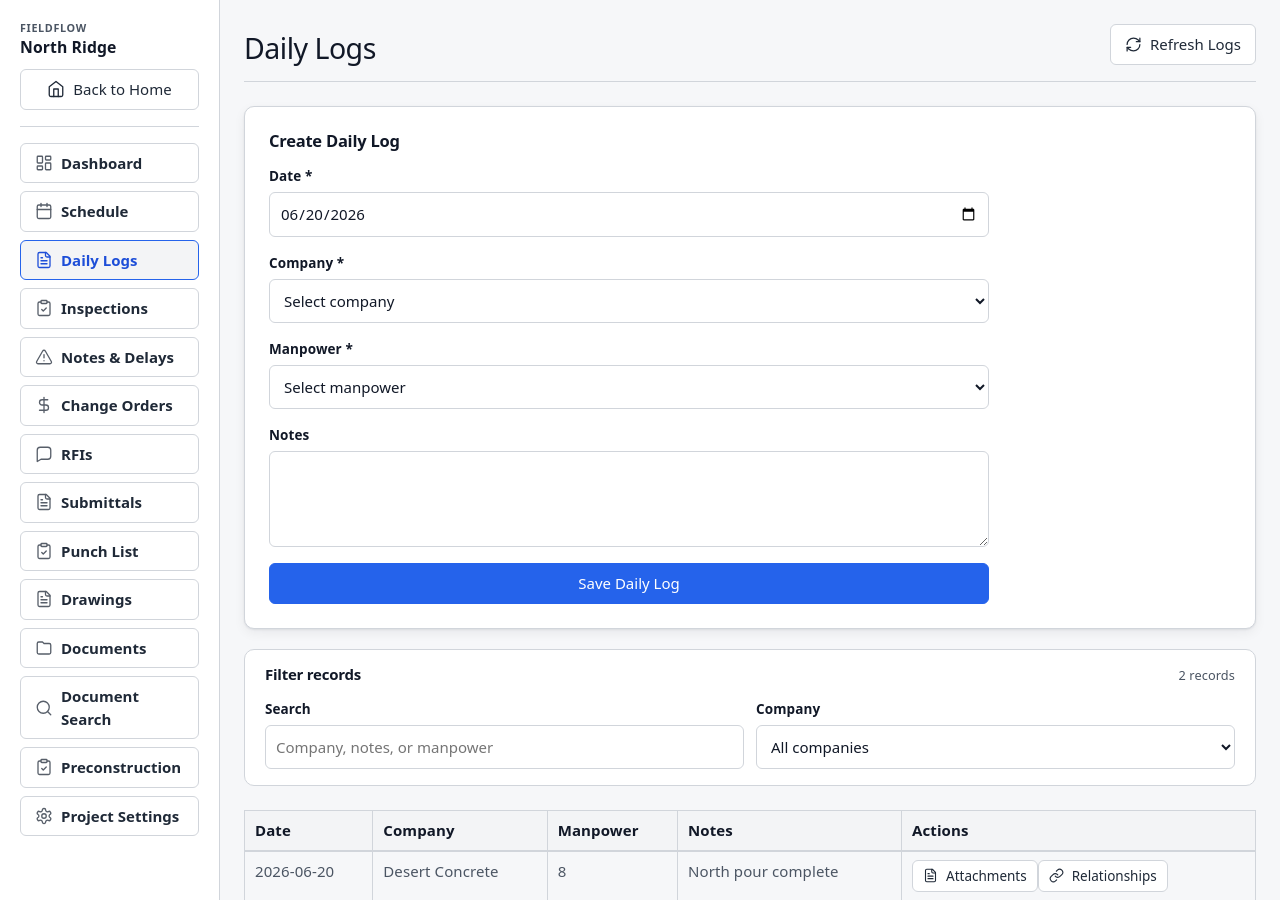
Scenario: DailyLogsPage › filters records by search text and announces the result count
In the search field labelled "Search": (504, 747) top-left (265, 725), bottom-right (744, 769), type "panel"
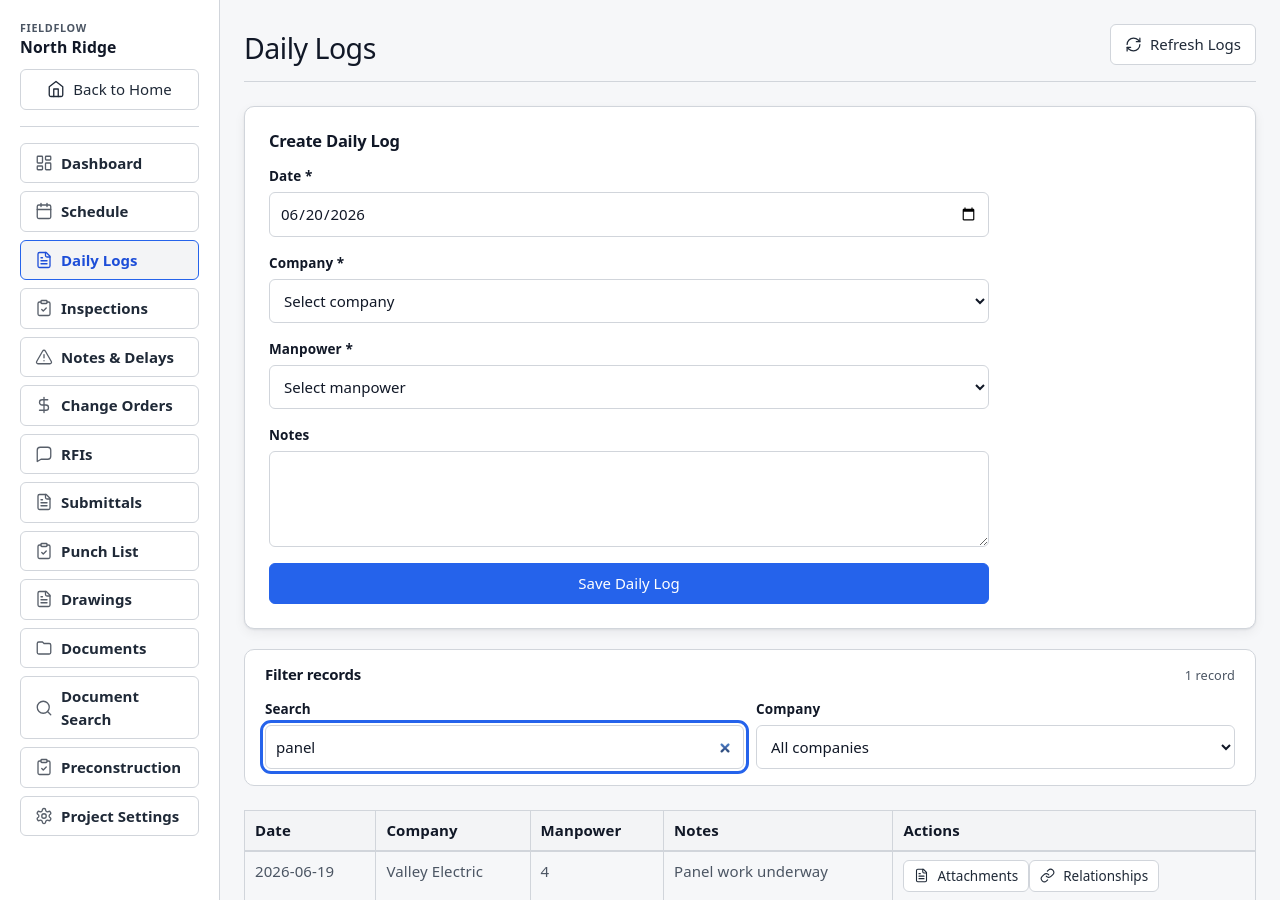
Check: the text "Panel work underway" is shown, box top-left (664, 851), bottom-right (893, 899)
Check: the text "North pour complete" is gone
Check: the text "1 record" is shown, box top-left (1185, 666), bottom-right (1235, 685)
